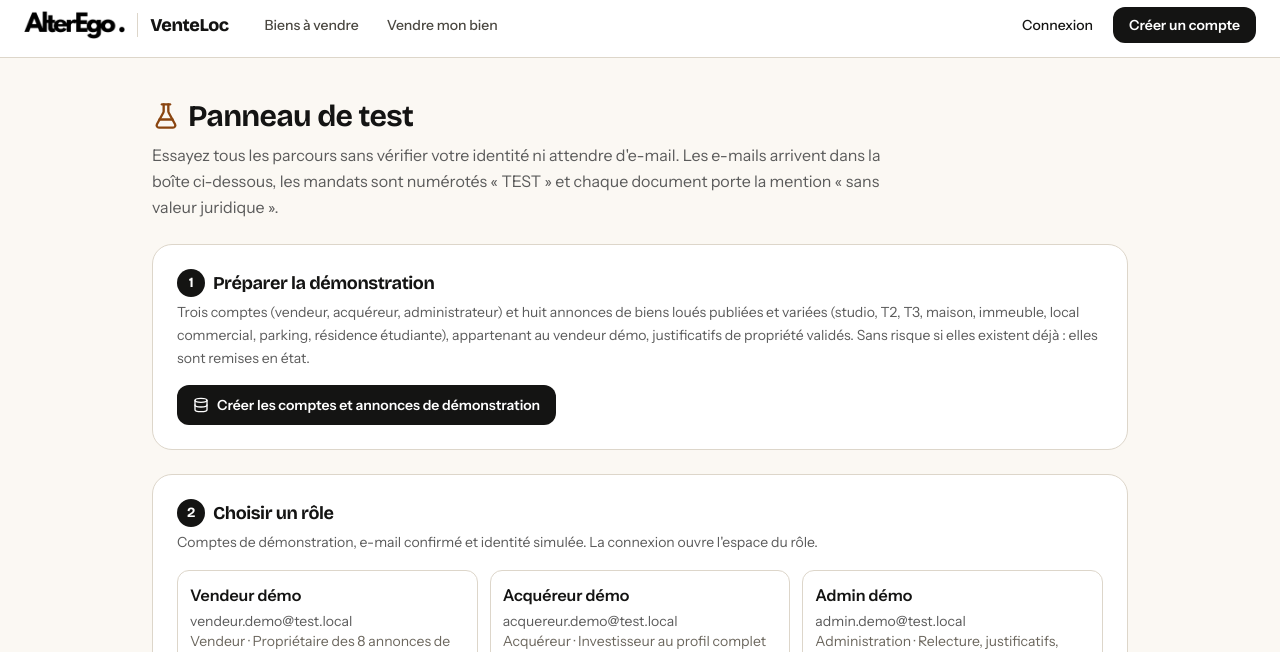
TestModePage › création des données de démonstration : mot de passe affiché
Click the button with test id "test-seed" at (367, 405), box [177, 385, 556, 425]
(page scrolled)
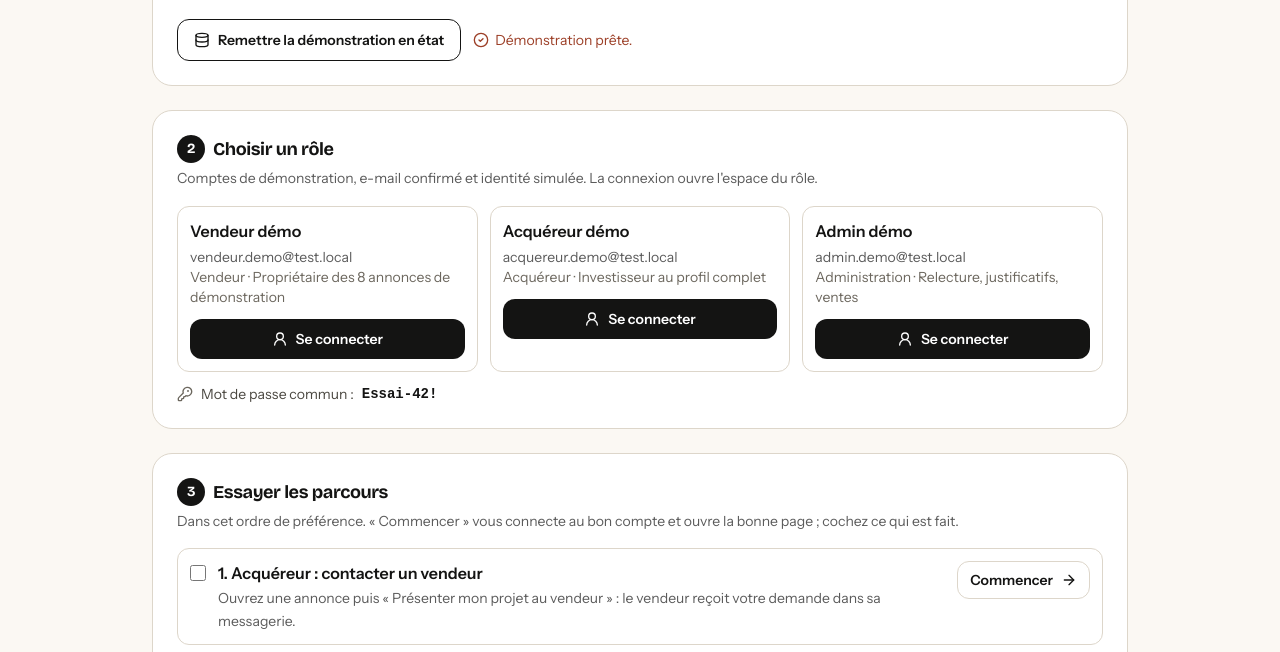
Now the element with test id "test-demo-password" shows "Essai-42!", box [362, 386, 437, 402]
